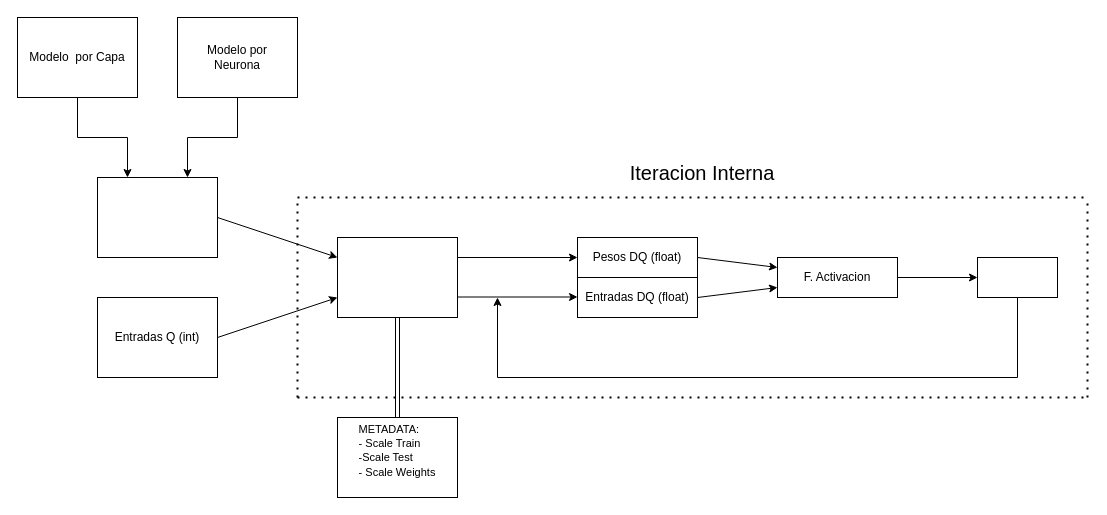
Image size: 1107x515. Some labels were removed from this diagram. Here are the shapes that lost their labels. From the top down, the centre of each, then its label:
At (157,217): "Pesos Q (int)".
At (397,277): "Desquantizador".
At (1017,277): "Salida".
